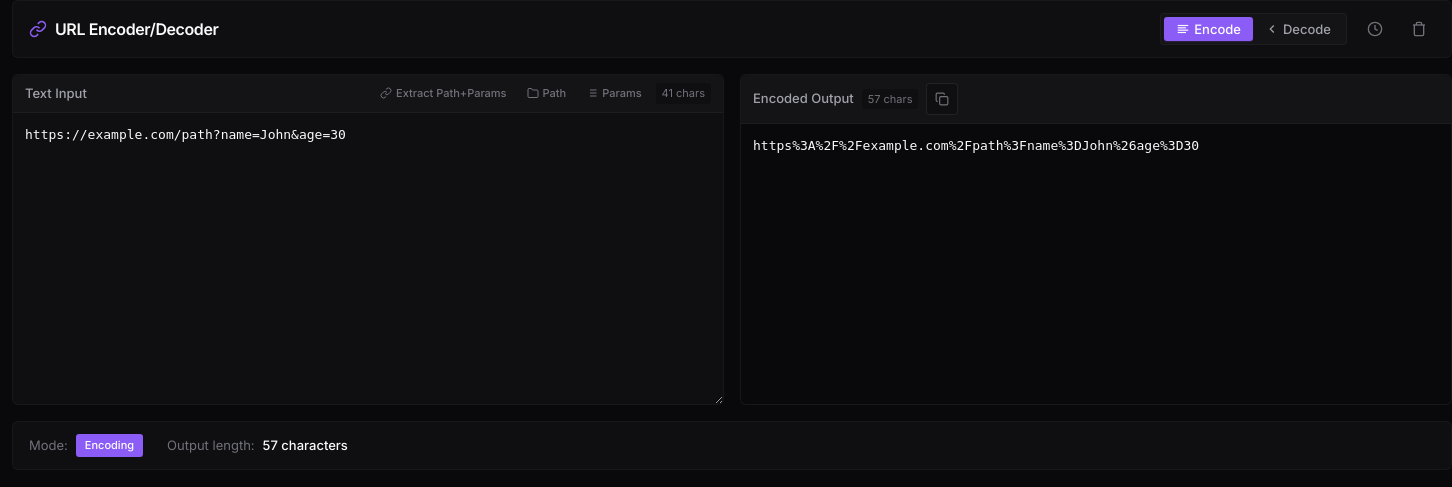
it: UrlTool › should extract pathname from URL
Replace the text in the text box named "text to encode" with "https://example.com/path/to/page?param=value": (368, 258) [13, 112, 723, 404]
Wait 200 ms
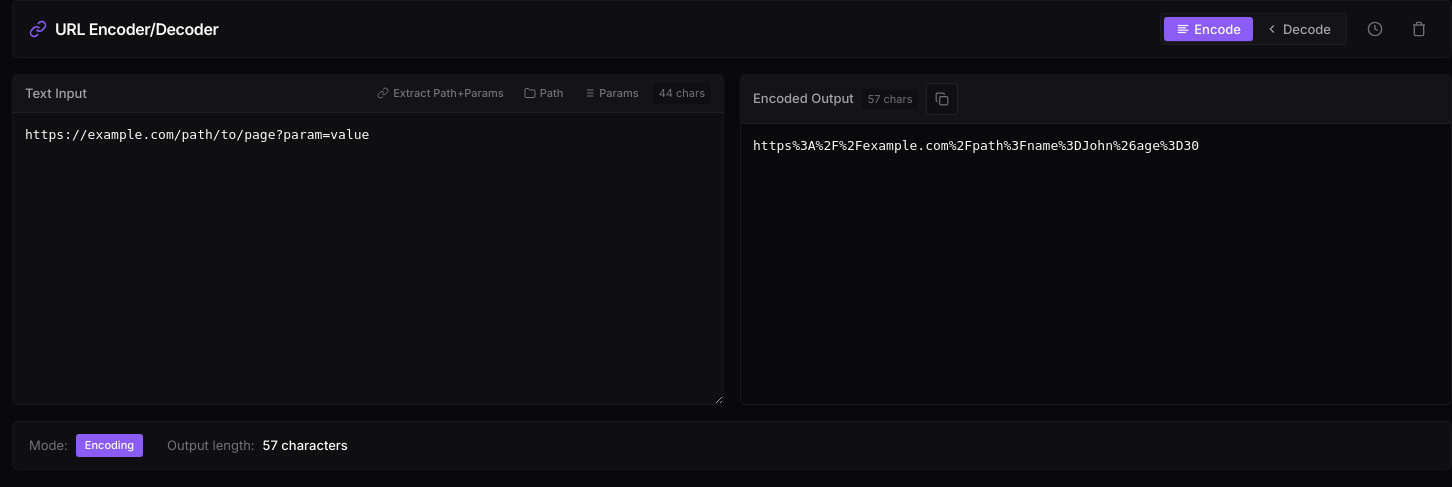
Click the button with aria-label "Extract pathname from URL": (544, 93) [518, 84, 569, 102]
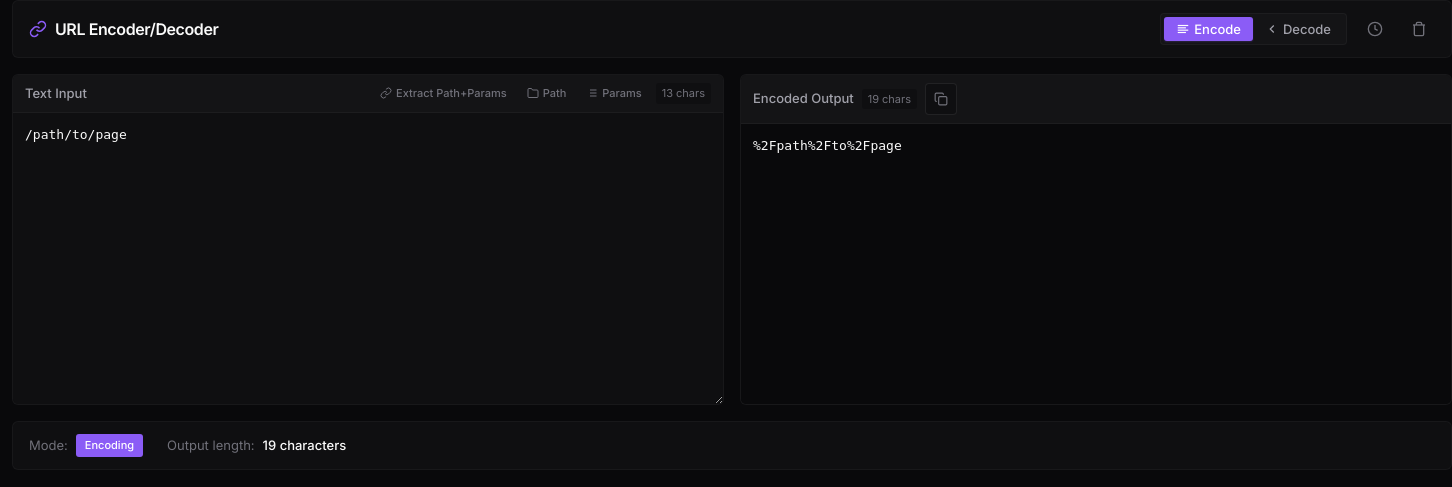
Now the text with test id "output-content" reads "%2Fpath%2Fto%2Fpage", box [753, 138, 902, 153]
